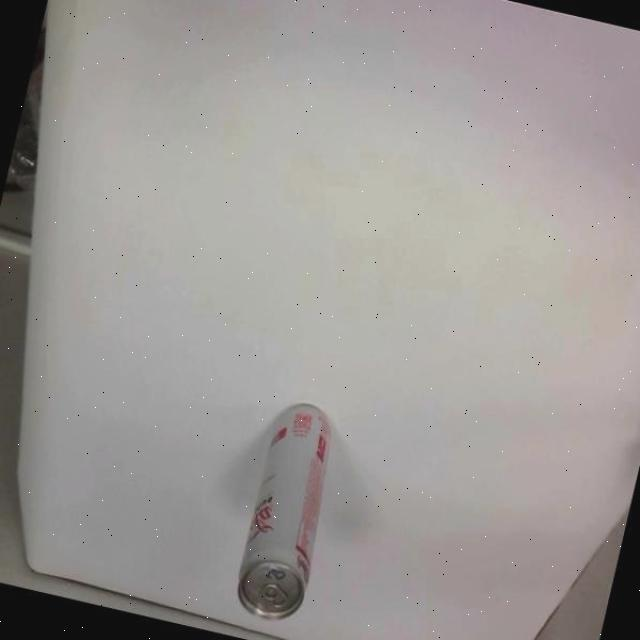debris: (228, 395, 347, 627)
